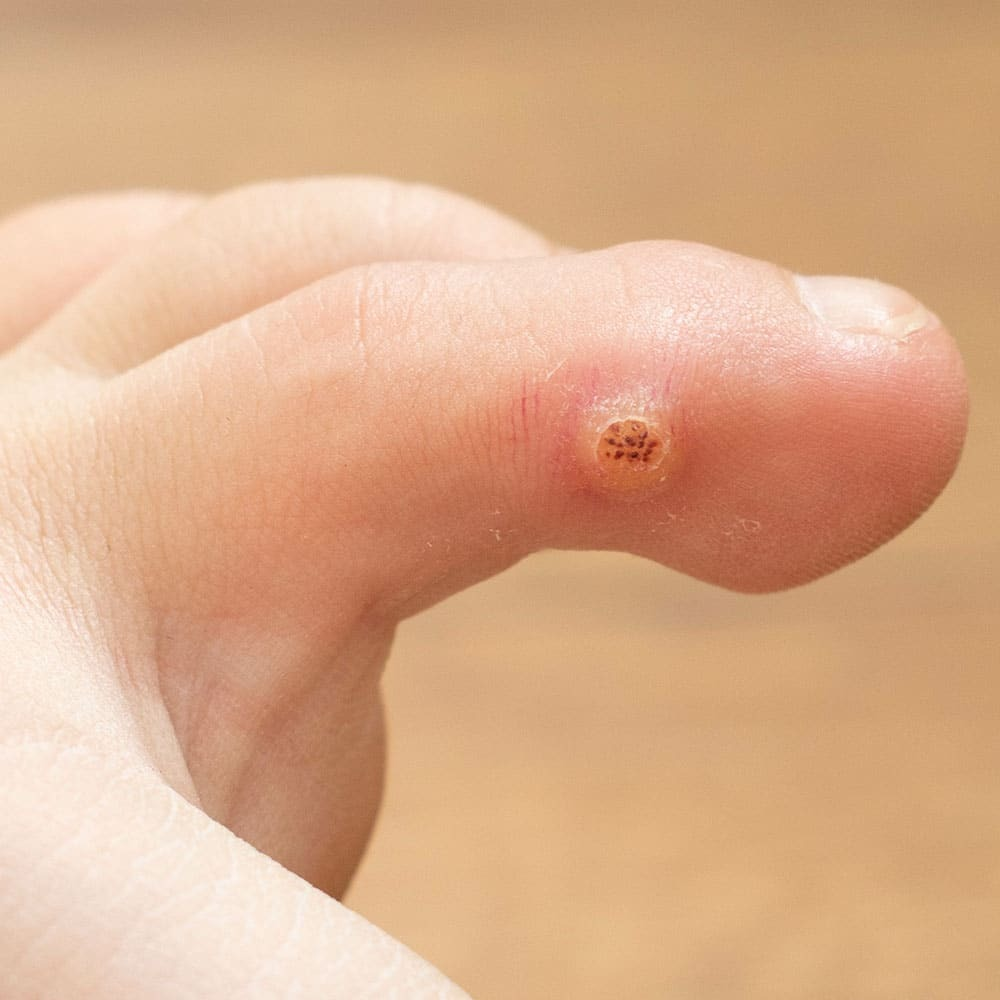Warts: (563, 382, 680, 505)
